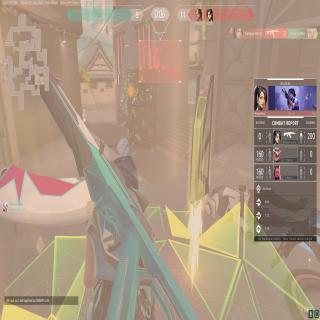ENEMY-HEAD: (200, 87, 203, 92)
